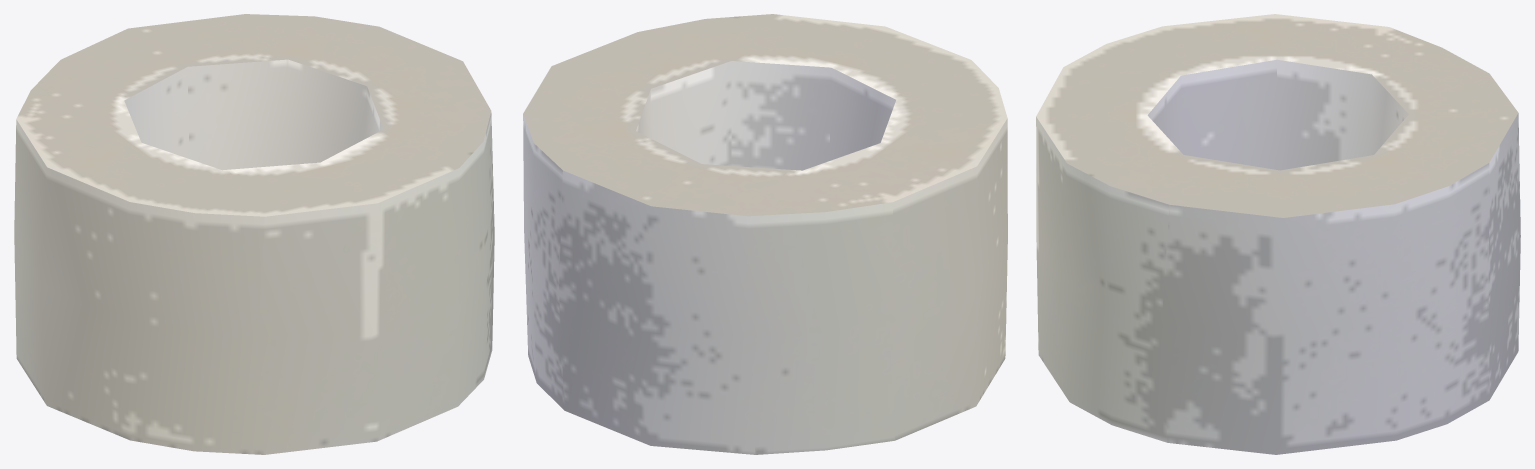
Rendered from medical_tape.glb.
3 renders of one model, left to right at view 1: azimuth 30°, elevation 25°; view 2: azimuth 150°, elevation 25°; view 3: azimuth 270°, elevation 25°, orthographic.
Parts seen in each view (by area): view 1: mesh; view 2: mesh; view 3: mesh.
Part boxes in pixels (left/top/right/bottom): mesh: left=14, top=14, right=494, bottom=454; mesh: left=523, top=14, right=1007, bottom=454; mesh: left=1036, top=14, right=1520, bottom=454.
Size of the model in its own units: 0.0459 by 0.025 by 0.0457.
Materials: 1 (1 with a texture image).
